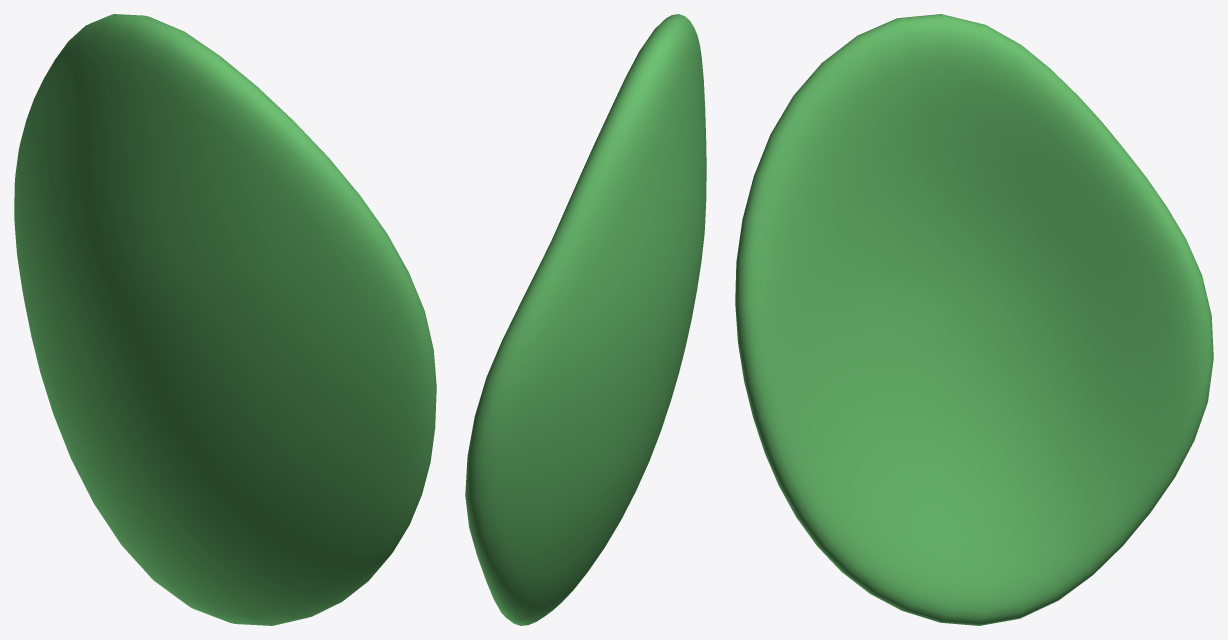
Rendered from TL5_Enamel_Diamond.001 3.glb.
The picture shows the model from 3 angles, left to right: view 1: azimuth 30°, elevation 25°; view 2: azimuth 150°, elevation 25°; view 3: azimuth 270°, elevation 25°; orthographic projection. The views are drawn at different scales.
Visible parts, largest first — view 1: TL5_Enamel_Diamond.001; view 2: TL5_Enamel_Diamond.001; view 3: TL5_Enamel_Diamond.001.
Boxes of the visible parts, x1,y1,x2,y2 form: TL5_Enamel_Diamond.001: (14, 14, 436, 625); TL5_Enamel_Diamond.001: (465, 14, 706, 625); TL5_Enamel_Diamond.001: (735, 14, 1213, 625).
Size of the model in its own units: 0.2937 by 0.7875 by 0.6092.
